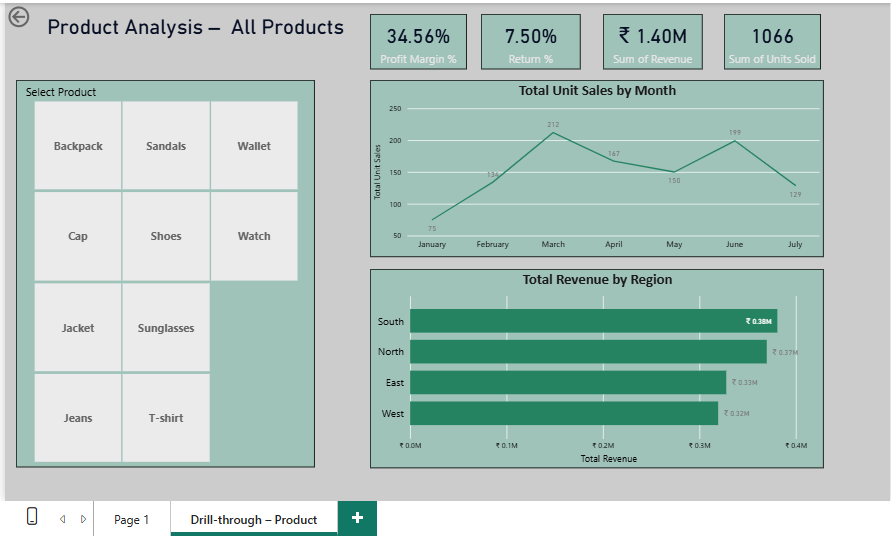

The page's visual inventory and layout, read from the dashboard file:
{"tool":"powerbi","page":{"name":"Drill-through – Product","canvas":[1280,720],"ordinal":1},"visuals":[{"type":"actionButton","box":[0,0,100,40],"z":0},{"type":"card","fields":{"Values":["Sum(Sheet1.Revenue)"]},"box":[864,16,144,80],"z":1000},{"type":"card","fields":{"Values":["Sum(Sheet1.Units Sold)"]},"box":[1040,16,140,80],"z":2000},{"type":"card","fields":{"Values":["Sheet1.Return %"]},"box":[688,16,144,80],"z":3000},{"type":"card","fields":{"Values":["Sheet1.Profit Margin %"]},"box":[528,16,140,80],"z":4000},{"type":"lineChart","title":"Total Unit Sales by Month","fields":{"Category":["Sheet1.Order Date.Variation.Date Hierarchy.Month"],"Y":["Sheet1.Total Unit Sales"]},"box":[528,112,656,256],"z":5000},{"type":"slicer","fields":{"Values":["Sheet1.Product"]},"box":[16,112,432,560],"z":6000},{"type":"clusteredBarChart","fields":{"Y":["Sheet1.Total Revenue"],"Category":["Sheet1.Region"]},"box":[528,384,656,288],"z":7000},{"type":"card","fields":{"Values":["Sheet1.Drillthrough Product Title"]},"box":[48,0,464,64],"z":8000}]}

Visuals, with their boxes in screenshot pixels (x1, y1, x2, y2):
actionButton: BBox(5, 2, 73, 30)
card - Sum(Sheet1.Revenue): BBox(598, 13, 697, 68)
card - Sum(Sheet1.Units Sold): BBox(719, 13, 815, 68)
card - Sheet1.Return %: BBox(477, 13, 576, 68)
card - Sheet1.Profit Margin %: BBox(367, 13, 463, 68)
"Total Unit Sales by Month" lineChart: BBox(367, 79, 817, 255)
slicer - Sheet1.Product: BBox(16, 79, 312, 464)
clusteredBarChart - Sheet1.Total Revenue x Sheet1.Region: BBox(367, 266, 817, 464)
card - Sheet1.Drillthrough Product Title: BBox(38, 2, 356, 46)
